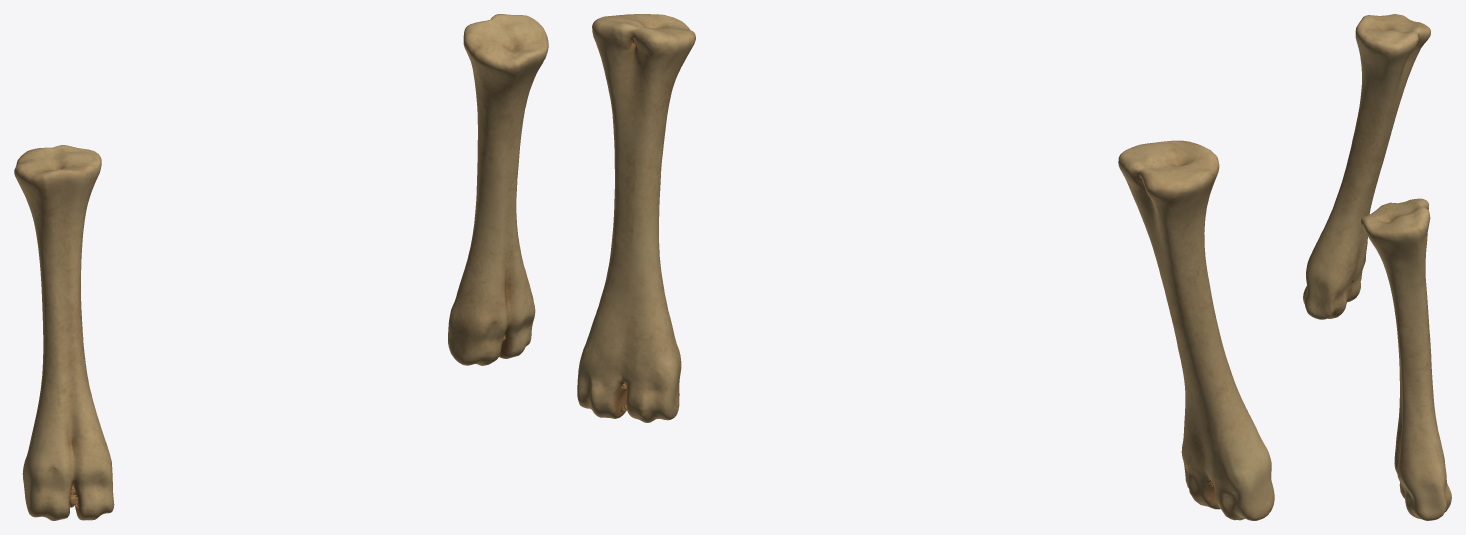
Rendered from Fused 3rd-4th Metatarsals.glb.
3 renders of one model, left to right at view 1: azimuth 30°, elevation 25°; view 2: azimuth 150°, elevation 25°; view 3: azimuth 270°, elevation 25°, orthographic. The views are drawn at different scales.
Parts seen in each view (by area): view 1: Group2936.001; view 2: Group2936.001; view 3: Group2936.001.
Part boxes in pixels (x1,y1,x2,y2): Group2936.001: (14,14,548,520); Group2936.001: (577,14,1274,520); Group2936.001: (1303,14,1451,520).
Bounding box in the file's own units: 340 × 206 × 89.73.
1 material, 1 textured.
